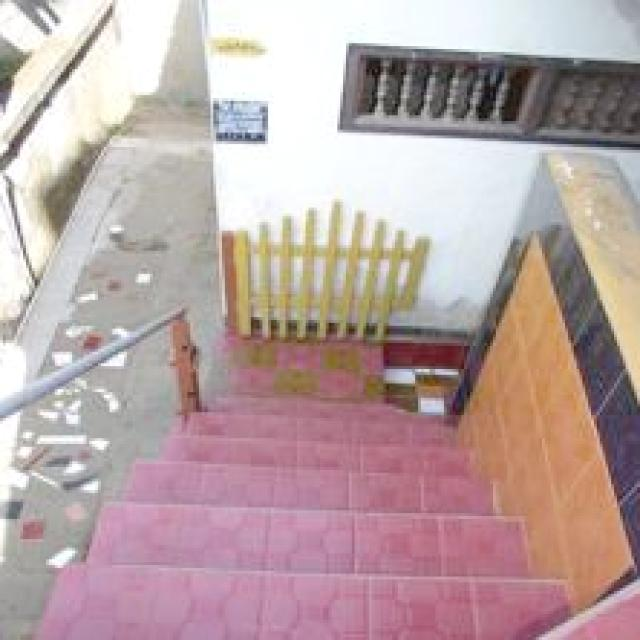downstair: (82, 425, 517, 635)
